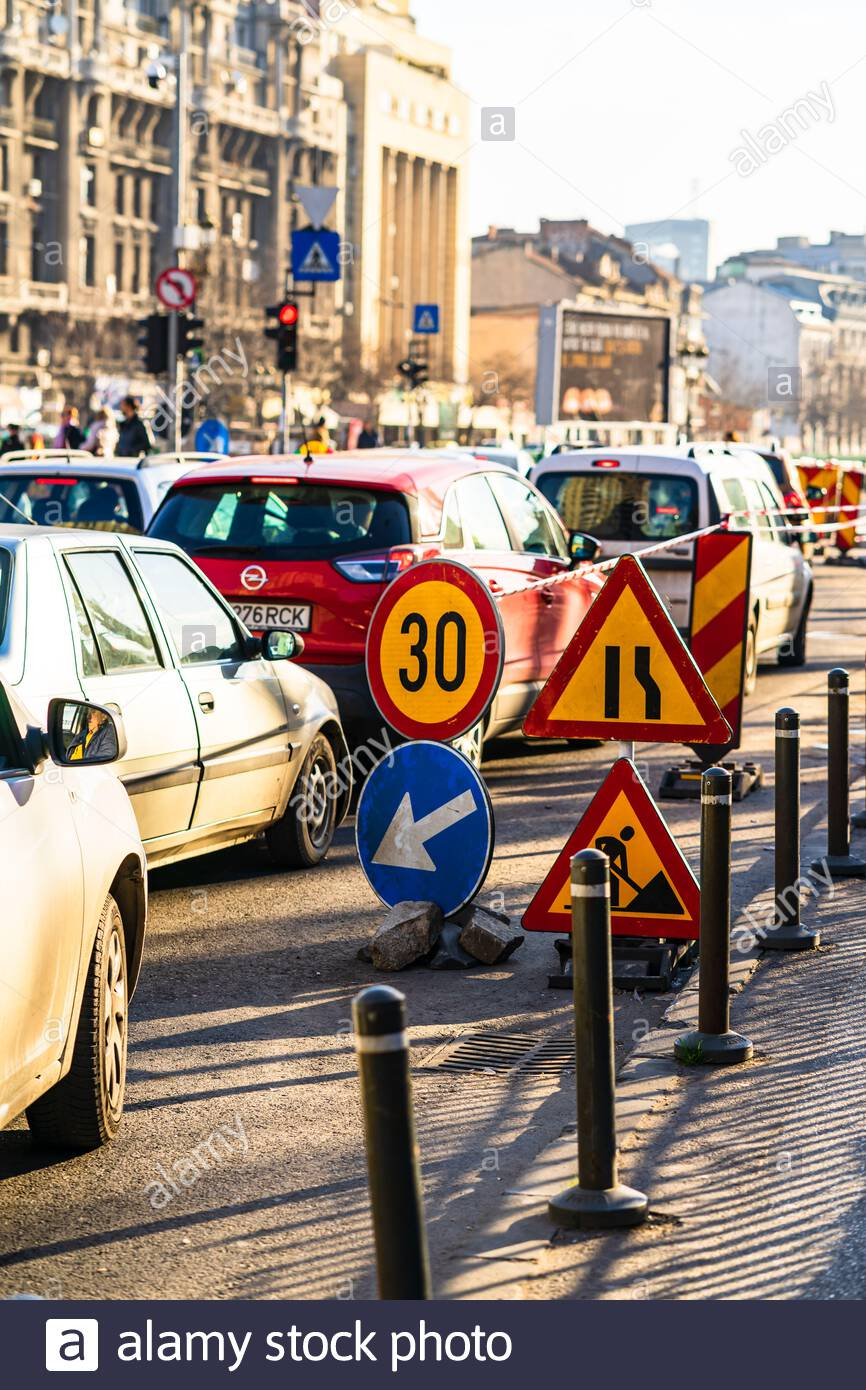speed_limit_30: (365, 559, 506, 747)
